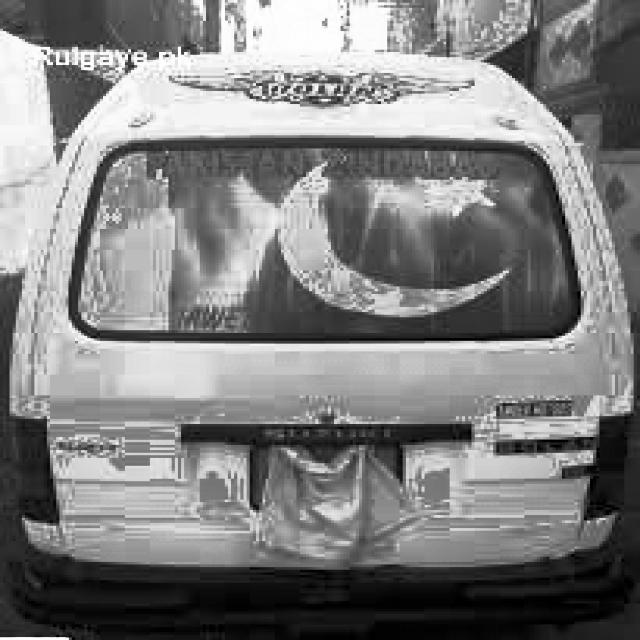LCV: (9, 41, 639, 640)
